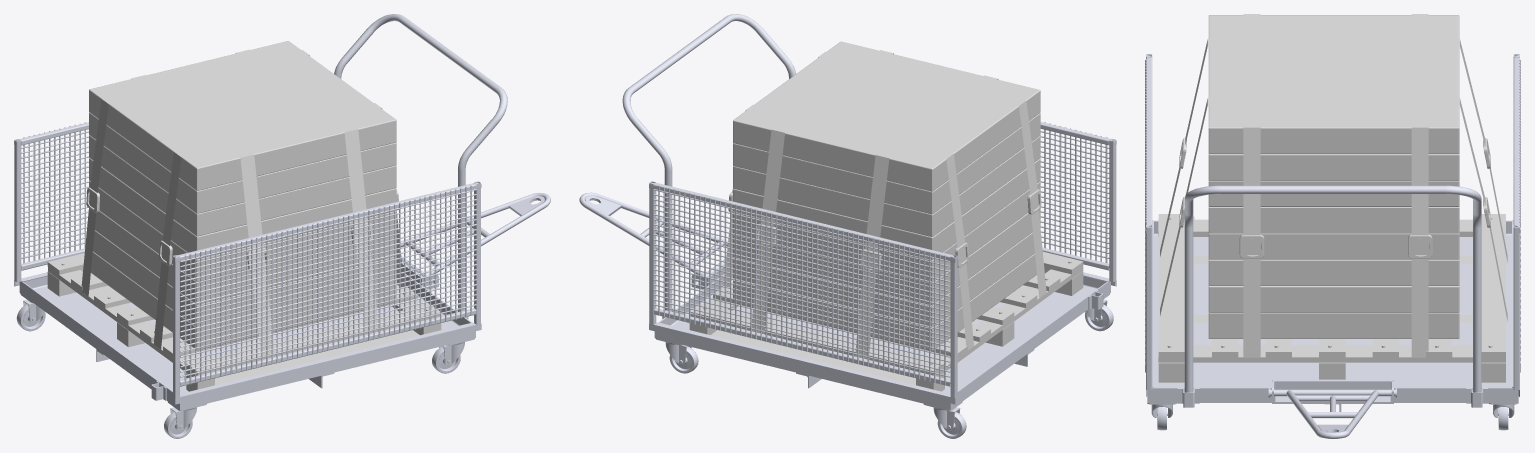
Rendered from trolley-s3.glb.
3 renders of one model, left to right at view 1: azimuth 30°, elevation 25°; view 2: azimuth 150°, elevation 25°; view 3: azimuth 270°, elevation 25°, orthographic. The views are drawn at different scales.
Visible parts, largest first — view 1: Material004, L10; view 2: Material004, L10; view 3: Material004, L10.
Boxes of the visible parts, left/top/right/bottom form: Material004: left=47, top=41, right=441, bottom=391; L10: left=14, top=14, right=550, bottom=438; Material004: left=689, top=41, right=1083, bottom=391; L10: left=579, top=14, right=1116, bottom=438; Material004: left=1158, top=14, right=1507, bottom=382; L10: left=1145, top=54, right=1520, bottom=438.
Size of the model in its own units: 0.4818 by 0.2485 by 0.2954.
Materials: 2 (1 with a texture image).
